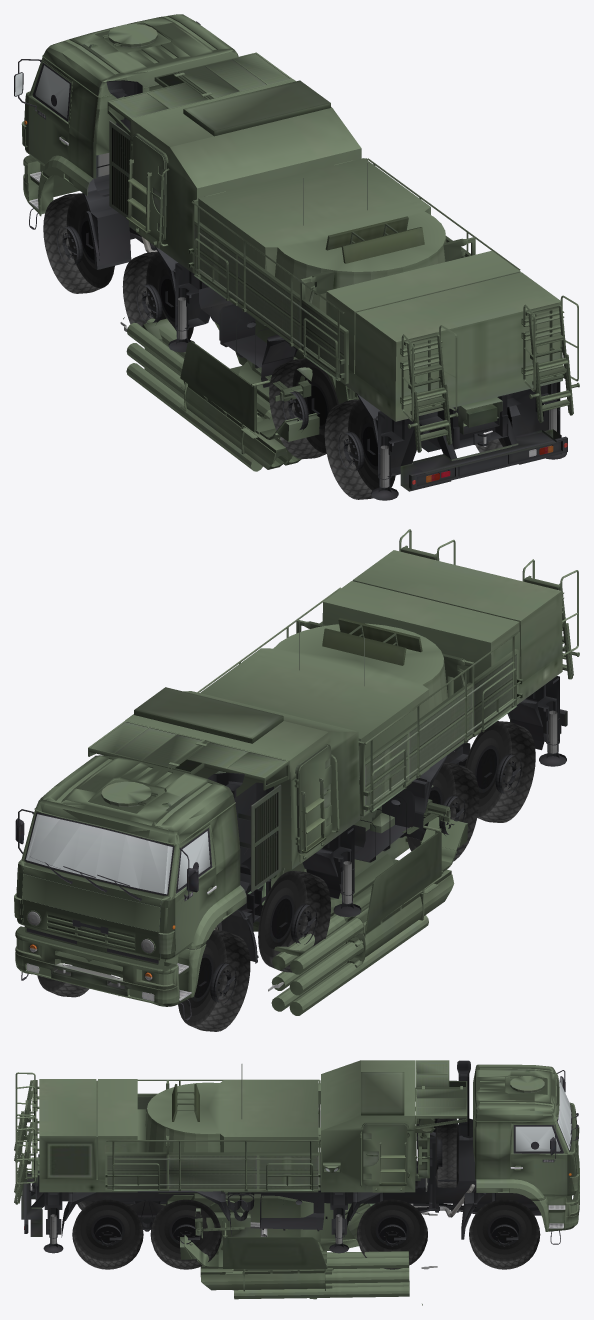
File: pantsir.glb
The picture shows the model from 3 angles, top to bottom: view 1: azimuth 30°, elevation 25°; view 2: azimuth 150°, elevation 25°; view 3: azimuth 270°, elevation 25°; orthographic projection. The views are drawn at different scales.
Parts seen in each view (by area): view 1: body|Material.001, cradle|Material.001, turret|Material.001, radar|Material.001; view 2: body|Material.001, cradle|Material.001, turret|Material.001, radar|Material.001; view 3: body|Material.001, turret|Material.001, cradle|Material.001, radar|Material.001.
Part boxes in pixels (x1,y1,x2,y2): body|Material.001: (14, 14, 579, 500); cradle|Material.001: (126, 318, 301, 471); turret|Material.001: (120, 162, 367, 441); radar|Material.001: (325, 216, 424, 263); body|Material.001: (14, 529, 579, 1031); cradle|Material.001: (271, 869, 454, 1015); turret|Material.001: (248, 622, 467, 991); radar|Material.001: (322, 618, 422, 665); body|Material.001: (14, 1060, 579, 1269); turret|Material.001: (160, 1064, 437, 1269); cradle|Material.001: (200, 1250, 422, 1305); radar|Material.001: (158, 1084, 199, 1193).
Bounding box in the file's own units: 2.99 × 4.27 × 10.81.
Materials: 4 (4 with a texture image).
